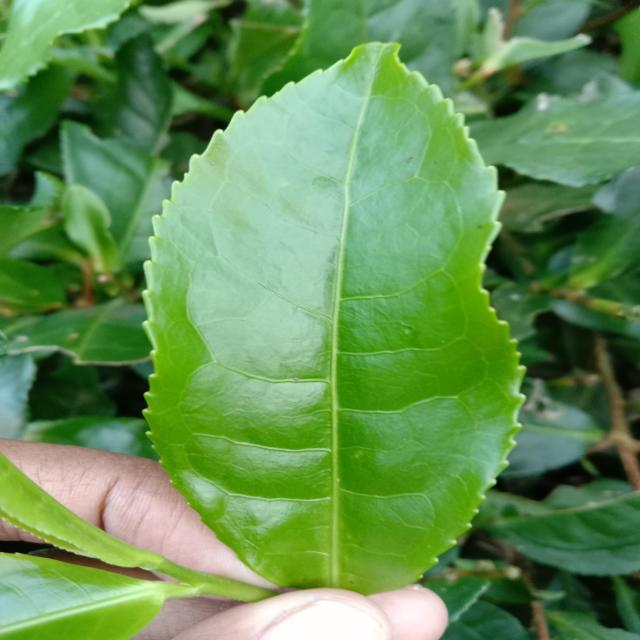Category C 4-7 days: (110, 26, 542, 599)
